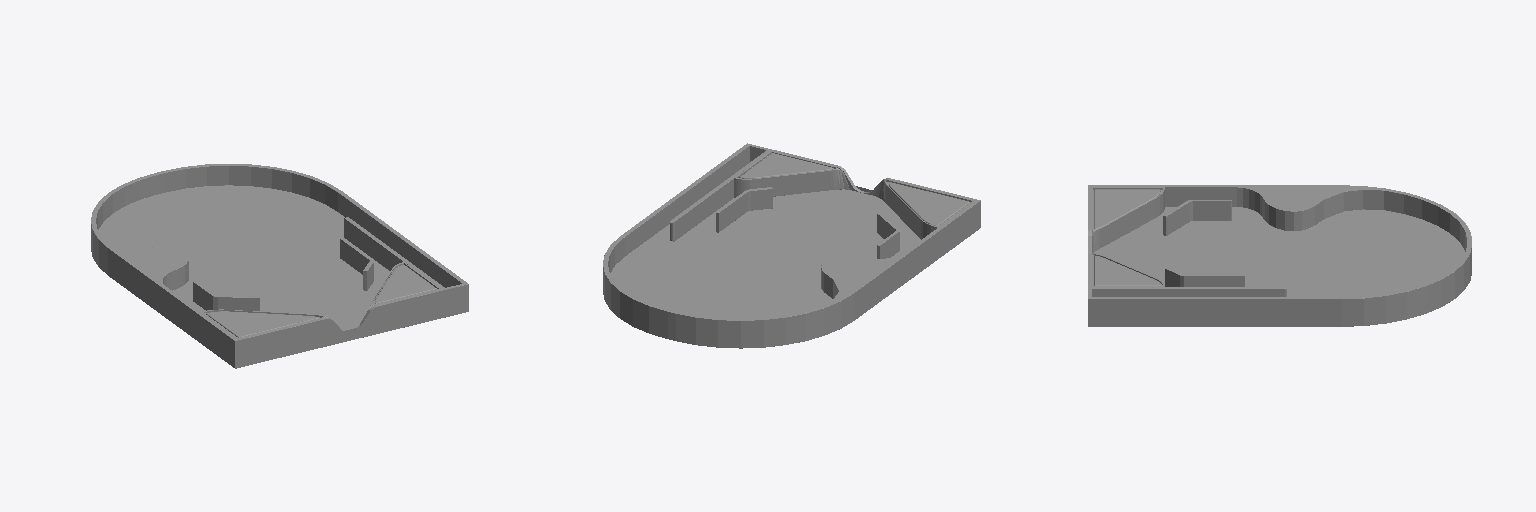
The model's file is Table.obj.
3 views of the same model, side by side, from view 1: azimuth 30°, elevation 25°; view 2: azimuth 150°, elevation 25°; view 3: azimuth 270°, elevation 25° (orthographic).
Parts seen in each view (by area): view 1: Cube; view 2: Cube; view 3: Cube.
Boxes of the visible parts, x1,y1,x2,y2 form: Cube: [91, 164, 468, 368]; Cube: [603, 143, 980, 348]; Cube: [1088, 185, 1471, 326].
Size of the model in its own units: 2.5 by 0.2838 by 3.56.